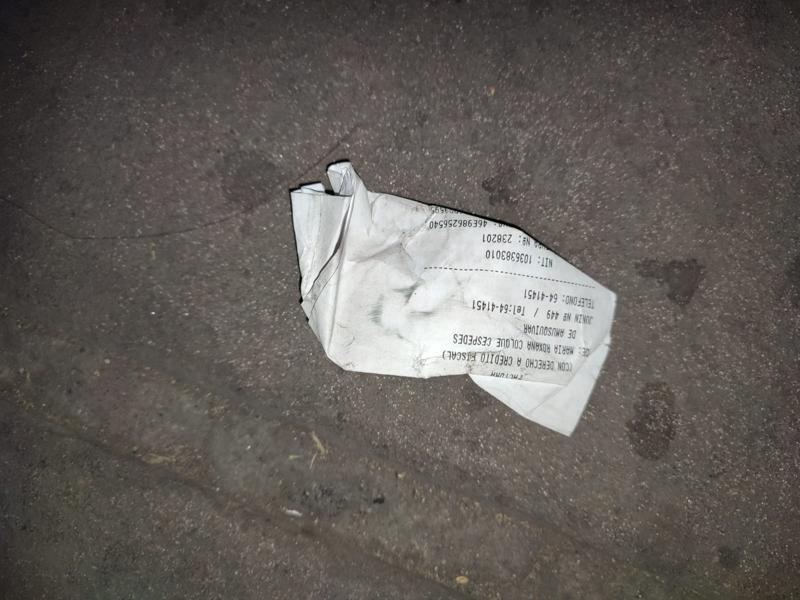papel: (288, 161, 617, 440)
